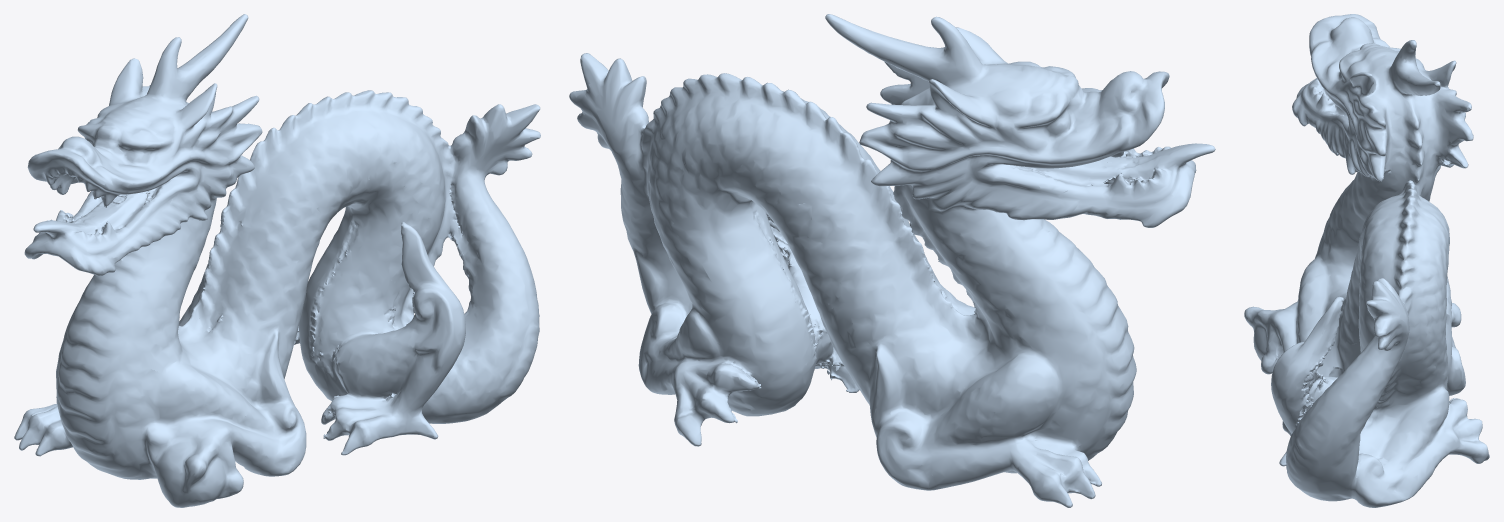
The model's file is chinese_dragon.glb.
3 views of the same model, side by side, from view 1: azimuth 30°, elevation 25°; view 2: azimuth 150°, elevation 25°; view 3: azimuth 270°, elevation 25° (orthographic). The views are drawn at different scales.
Parts seen in each view (by area): view 1: dragon2stlcleanermaterialmergergles; view 2: dragon2stlcleanermaterialmergergles; view 3: dragon2stlcleanermaterialmergergles.
Boxes of the visible parts, bbox=[...] form: dragon2stlcleanermaterialmergergles: bbox=[14, 14, 540, 507]; dragon2stlcleanermaterialmergergles: bbox=[569, 14, 1215, 507]; dragon2stlcleanermaterialmergergles: bbox=[1244, 14, 1489, 507].
Size of the model in its own units: 56.37 by 39.76 by 25.21.
